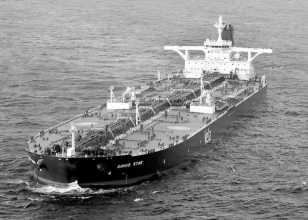Cargoship: (29, 18, 268, 182)
